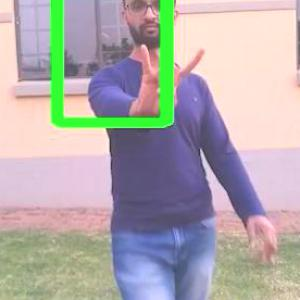takeoff-hand: (130, 35, 206, 124)
